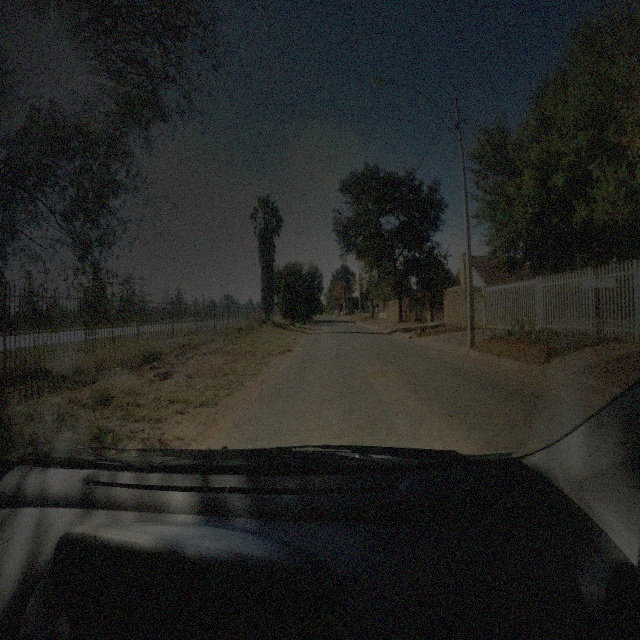pothole: (367, 368, 398, 380)
